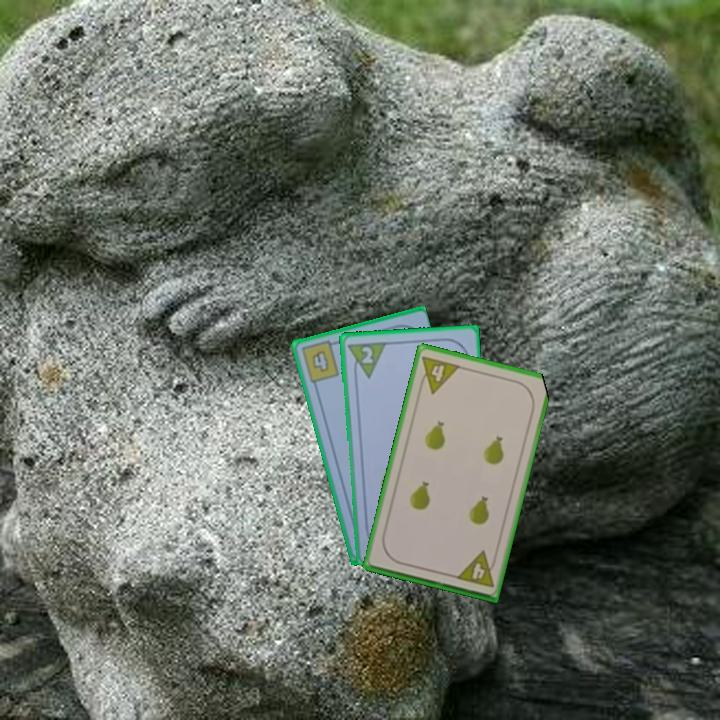2p: (344, 338, 388, 381)
4b: (297, 337, 342, 386)
4p: (415, 352, 463, 397), (452, 548, 500, 590)
